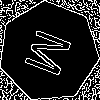M: (24, 27, 81, 82)
